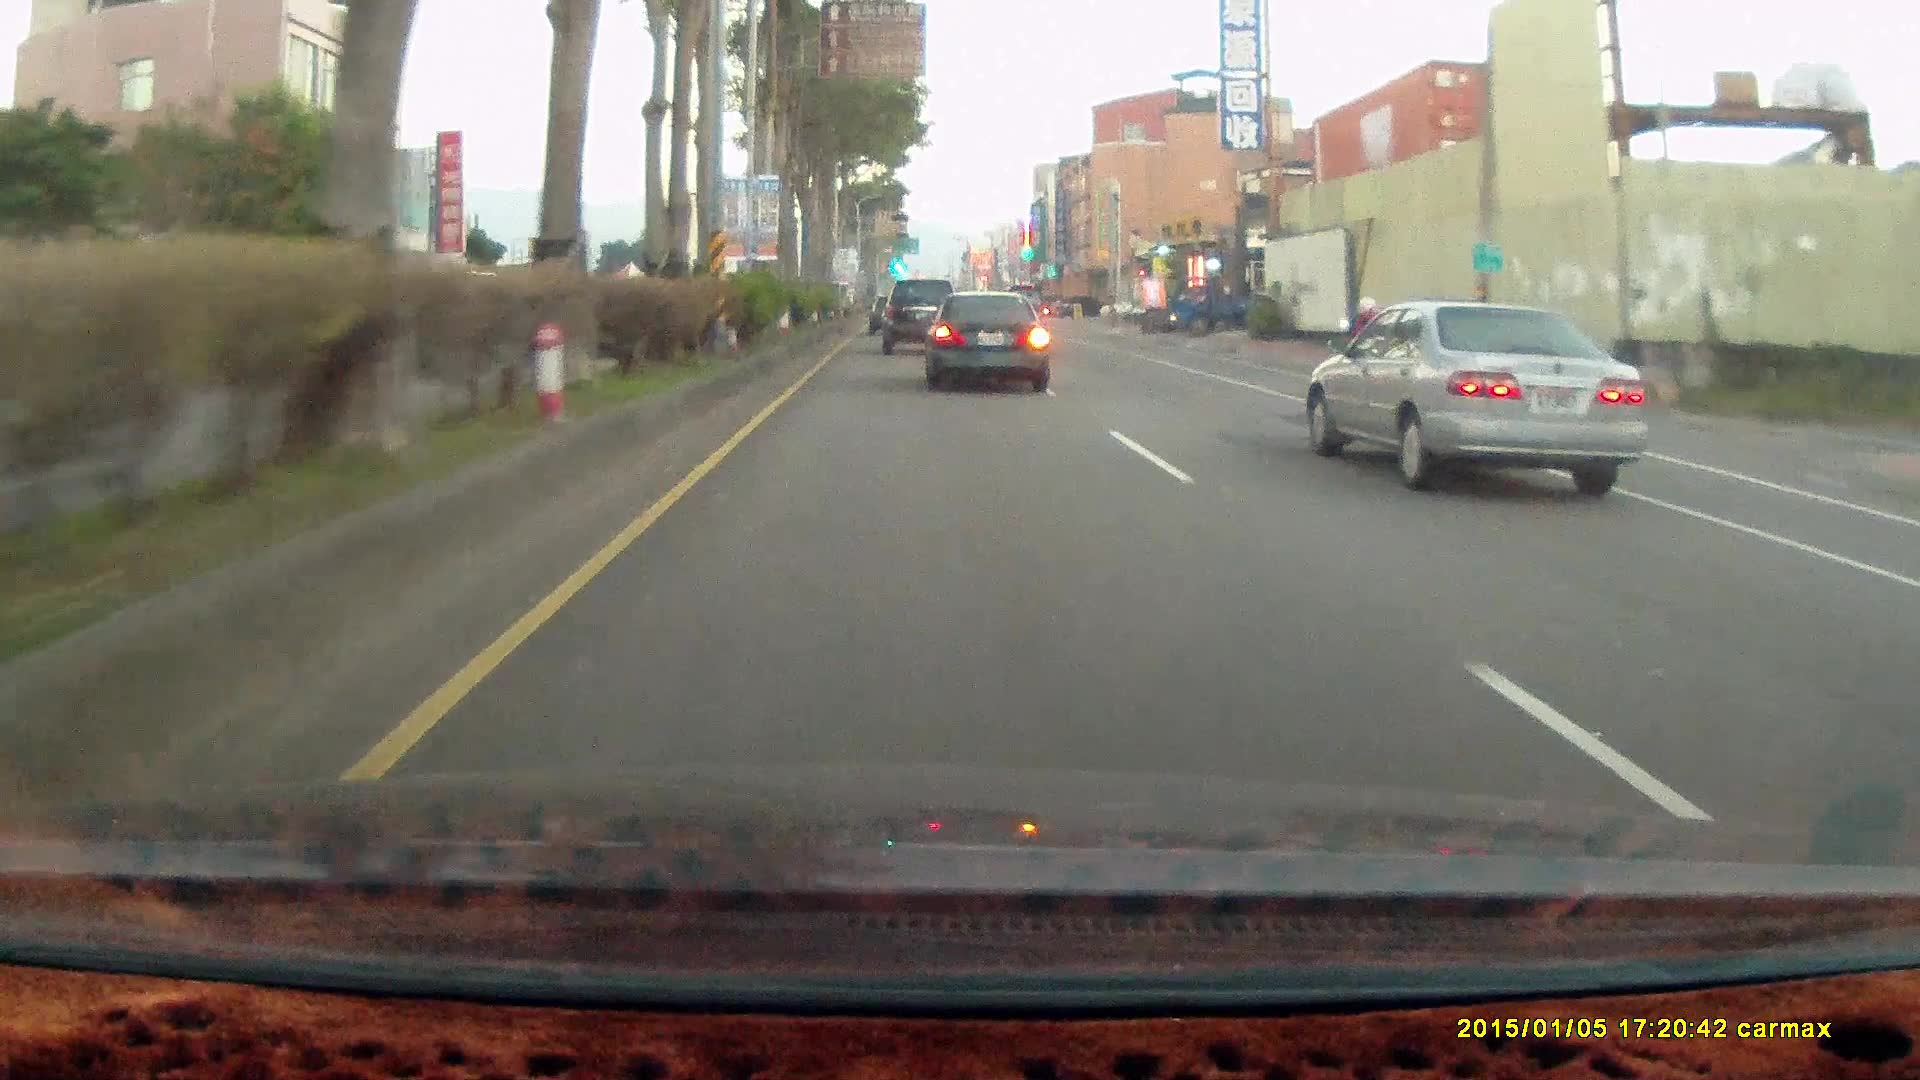vehicle: (1305, 298, 1648, 497), (1303, 301, 1650, 491), (919, 289, 1050, 392), (930, 295, 1058, 393), (1163, 272, 1269, 340), (1163, 278, 1270, 338), (881, 280, 960, 353), (881, 280, 960, 352), (1059, 295, 1104, 318)
